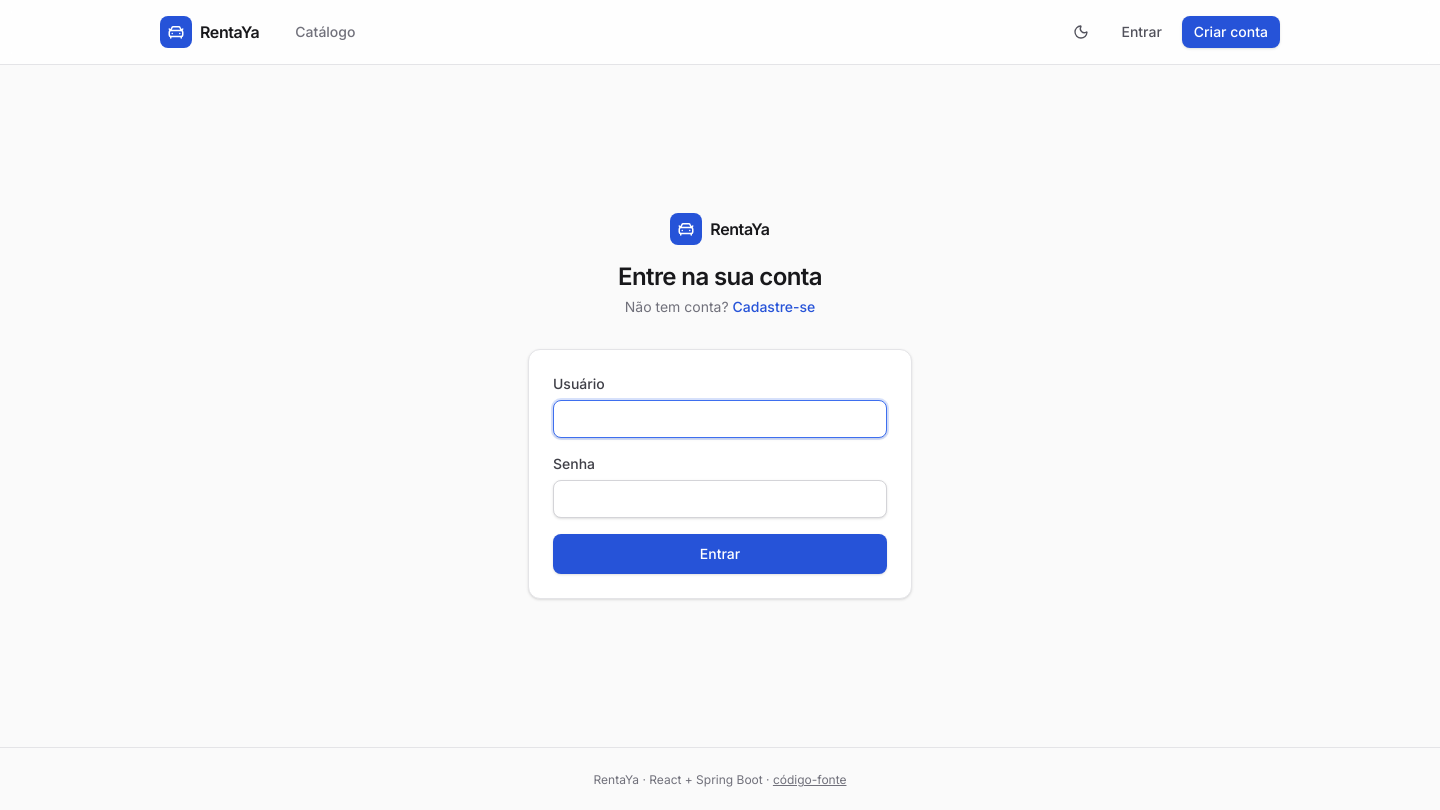
Acceso y permisos › muestra el error de credenciales incorrectas
Type "admin" into the field labelled "Usuário" at x=720, y=419, box [553,400,887,438]
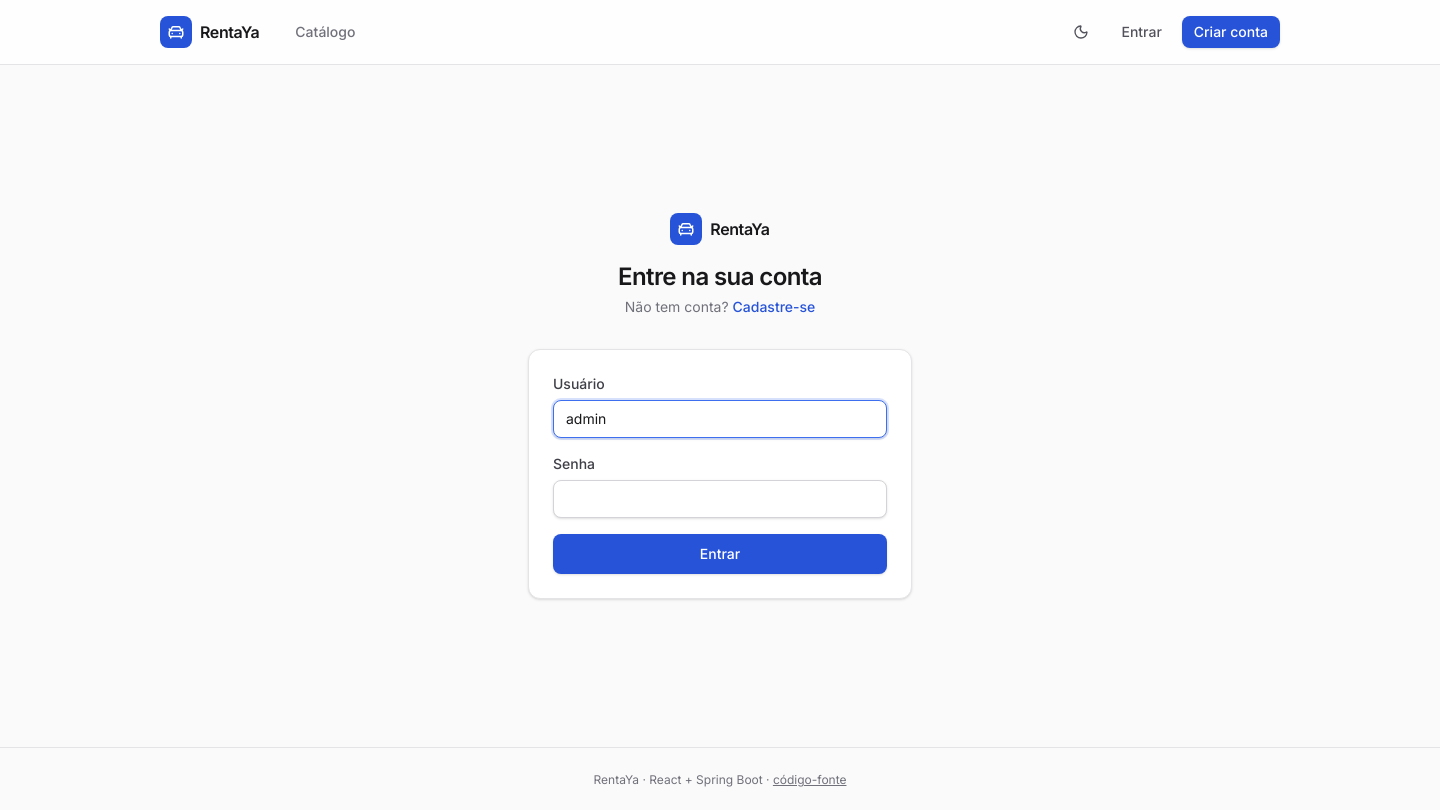
Type "incorrecta" into the password field labelled "Senha" at x=720, y=499, box [553,480,887,518]
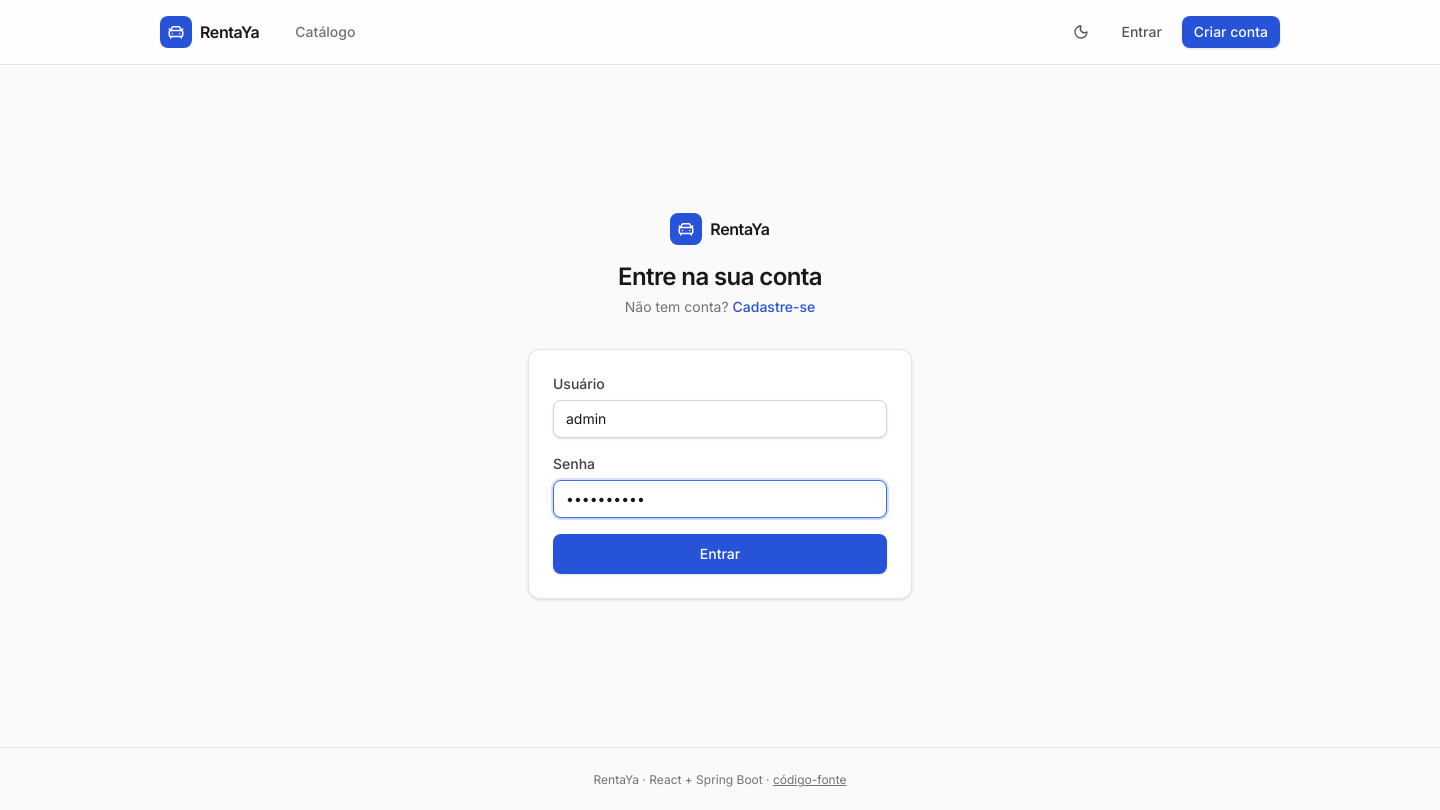
Click the button "Entrar" below "Senha" at x=720, y=554, box [553,534,887,574]
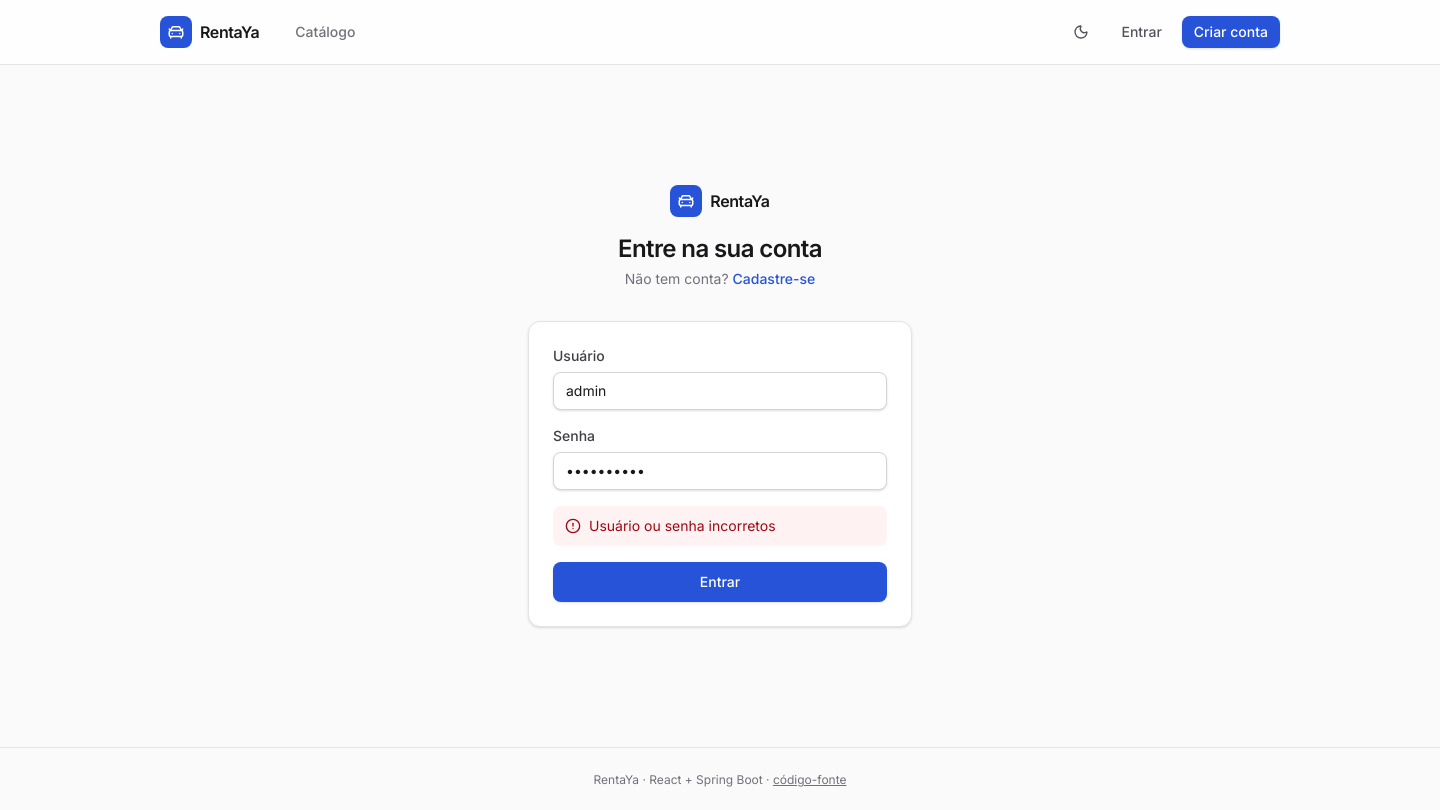
expect the text "Usuário ou senha incorretos" is shown: met, box [589,516,776,536]
